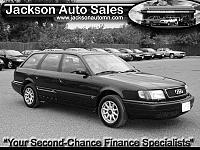car: (12, 50, 196, 130)
